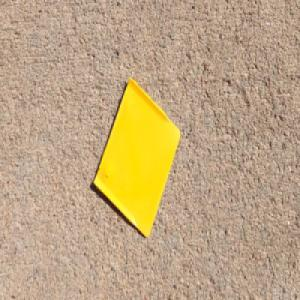PlasticPart: (91, 75, 181, 239)
